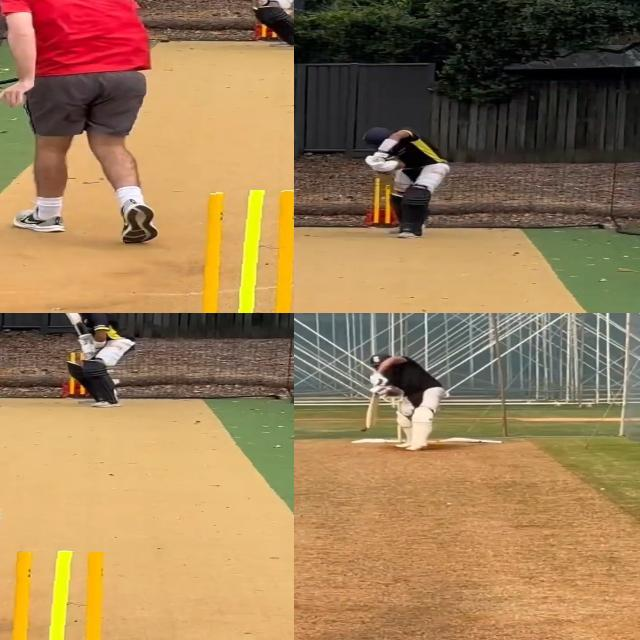Cricket ball: (360, 427, 367, 432)
Stumps: (188, 190, 294, 313), (0, 551, 120, 640)
